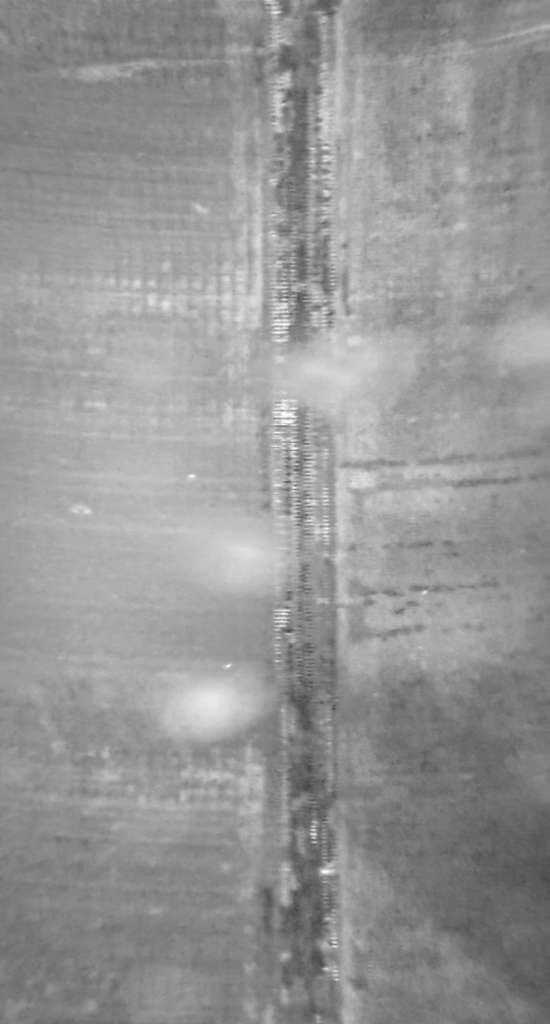splice: (251, 1, 362, 1024)
